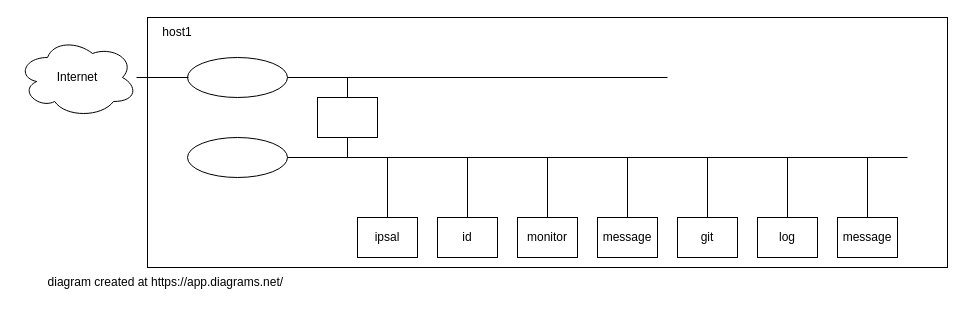
Image size: 965x315. Some labels were removed from this diagram. Each missing label, with the centre of its shape:
gateway: point (347, 117)
private1 network: point (237, 157)
public1 network: point (237, 77)
